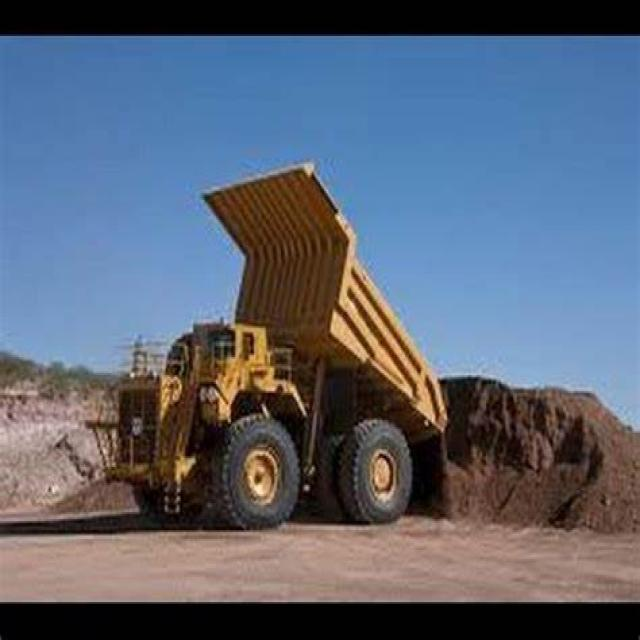dump_truck: (80, 146, 466, 534)
